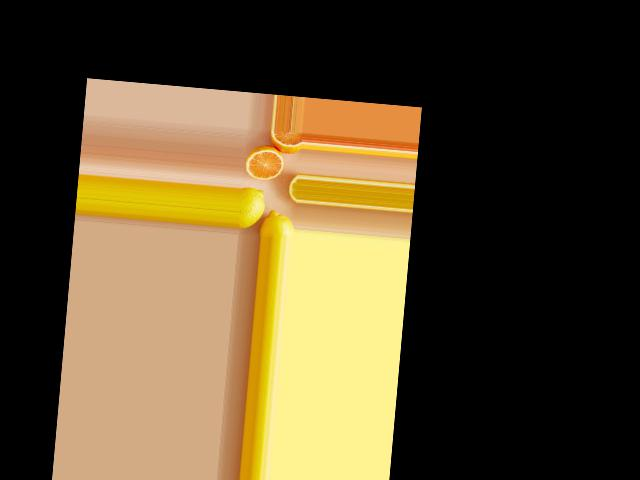lemon: (258, 206, 294, 239)
